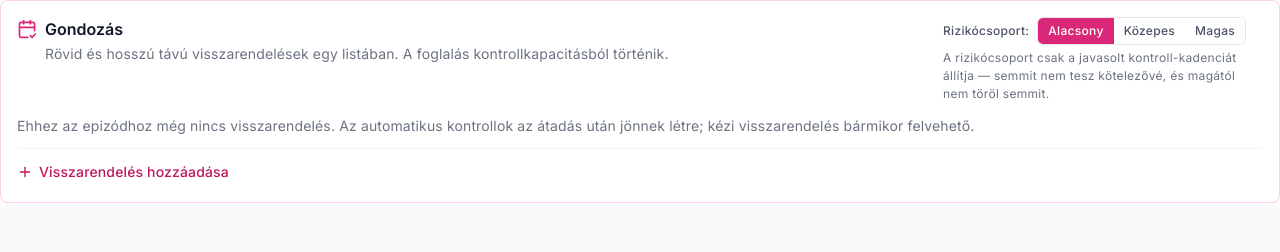
Test: EpisodeRecallPanel — kézi visszarendelés › nem-pozitív napszámmal nem POST-ol, hanem hibát mutat
The image size is (1280, 252).
Click the button "Visszarendelés hozzáadása": (123, 172) x1=17 y1=161 x2=229 y2=182
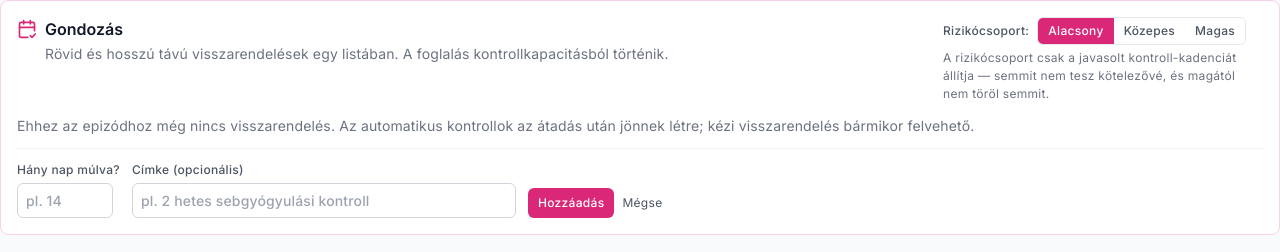
In the number field with placeholder "pl. 14": (65, 200) x1=17 y1=183 x2=113 y2=218, type "0"
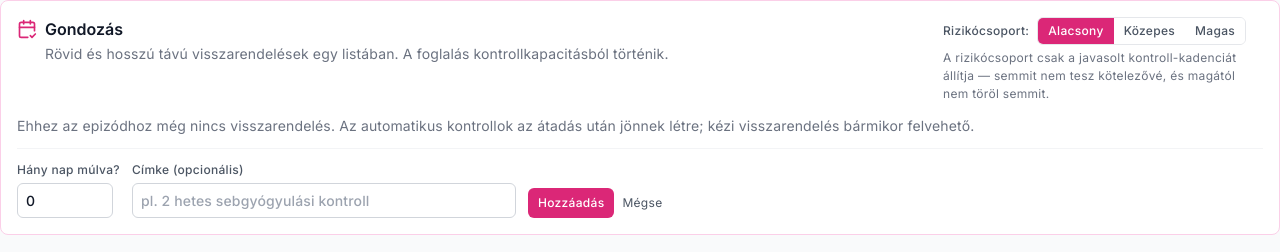
Submit the text "Hozzáadás", box x1=17 y1=162 x2=662 y2=218
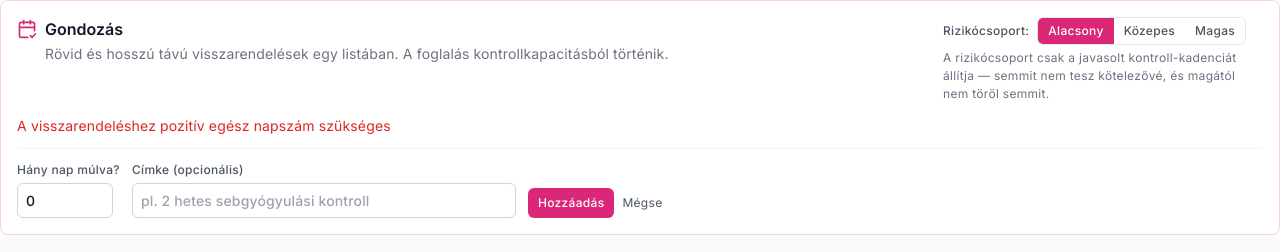
expect the text "A visszarendeléshez pozitív egész napszám szükséges" is shown: met, box x1=17 y1=117 x2=391 y2=134
